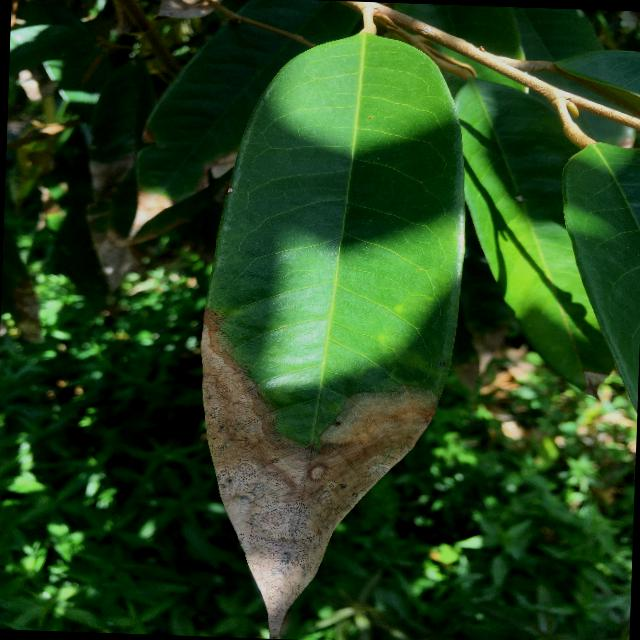Leaf Blight: (179, 13, 481, 639)
